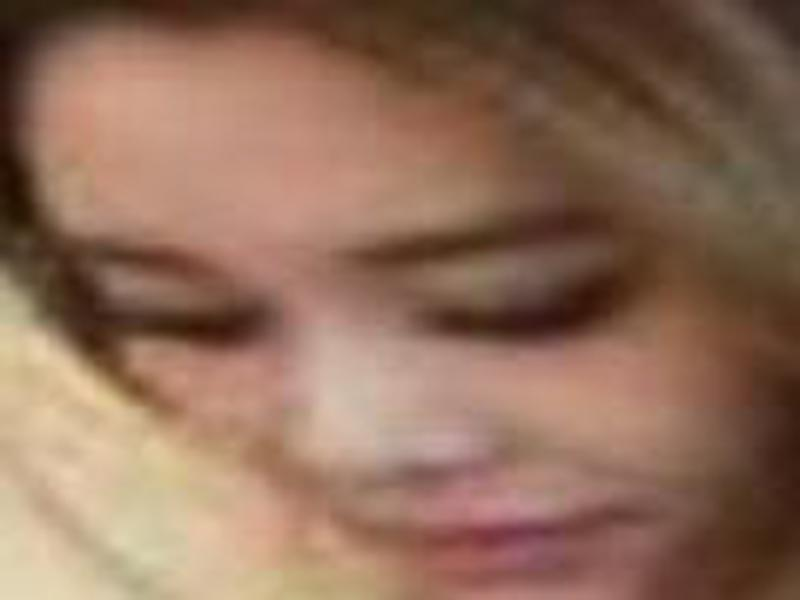without_mask: (16, 63, 738, 591)
